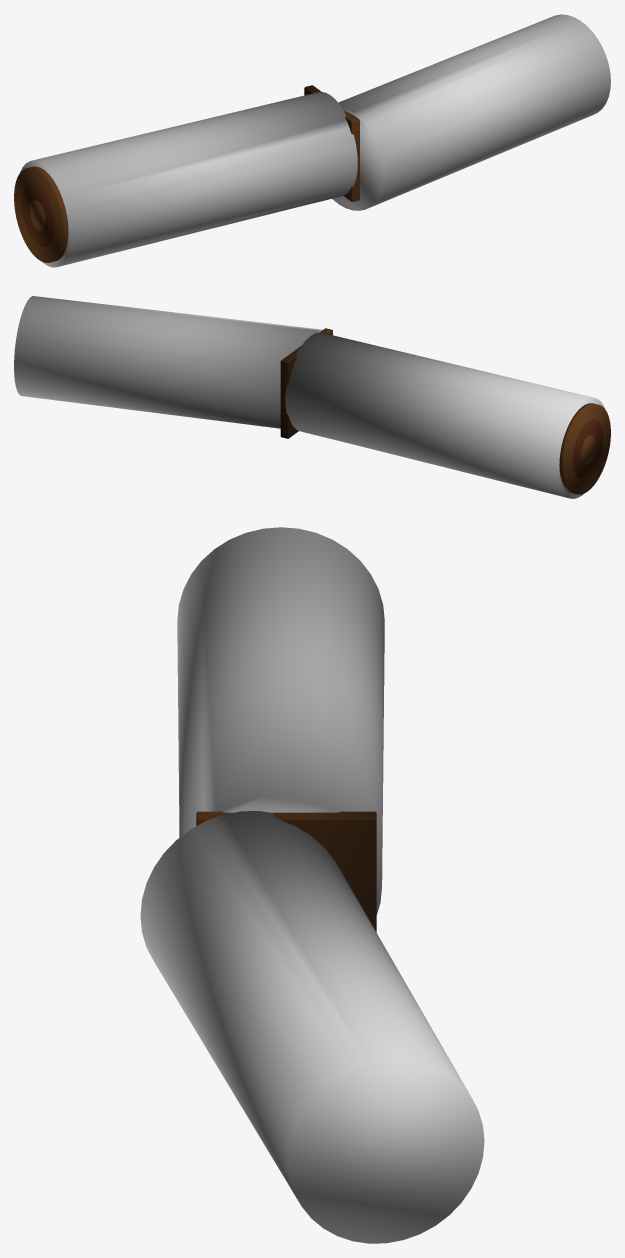
File: split-log.obj
The picture shows the model from 3 angles, top to bottom: view 1: azimuth 30°, elevation 25°; view 2: azimuth 150°, elevation 25°; view 3: azimuth 270°, elevation 25°; orthographic projection. The views are drawn at different scales.
Visible parts, largest first — view 1: split-log; view 2: split-log; view 3: split-log.
Boxes of the visible parts, left/top/right/bottom form: split-log: left=14, top=14, right=610, bottom=267; split-log: left=14, top=296, right=610, bottom=498; split-log: left=140, top=527, right=484, bottom=1243.
Size of the model in its own units: 2.3 by 0.41 by 0.63.
